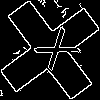X: (25, 25, 81, 80)
